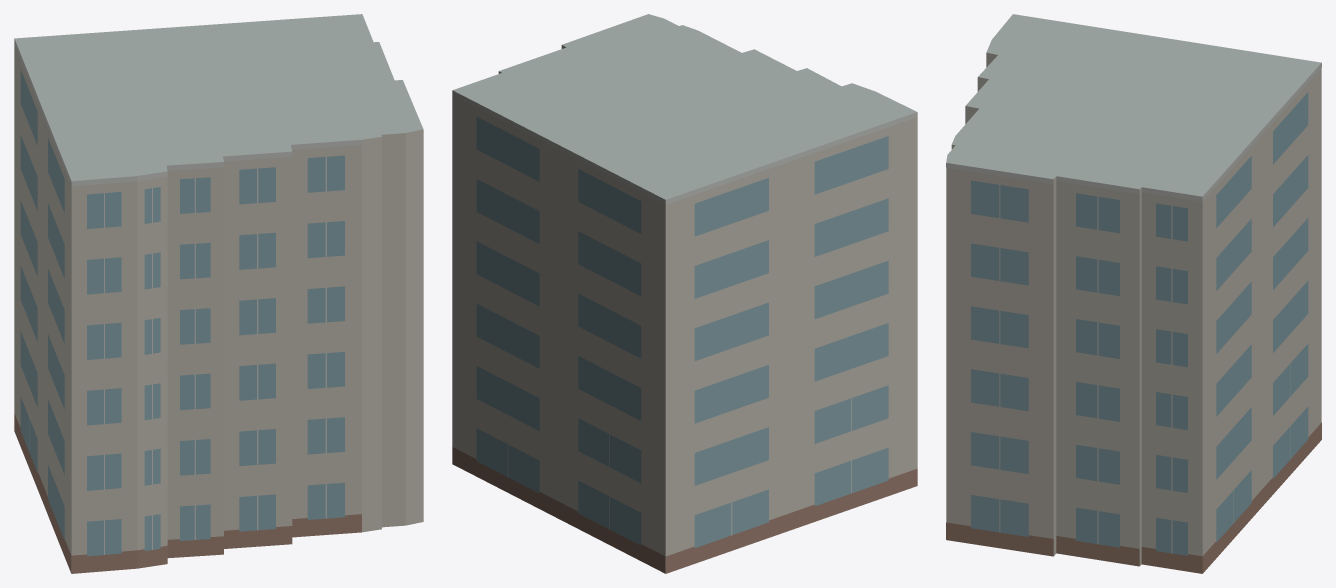
The model's file is survey-upis-32478143.glb.
The picture shows the model from 3 angles, left to right: view 1: azimuth 30°, elevation 25°; view 2: azimuth 150°, elevation 25°; view 3: azimuth 270°, elevation 25°; orthographic projection. The views are drawn at different scales.
Visible parts, largest first — view 1: survey-upis-32478143.tmp; view 2: survey-upis-32478143.tmp; view 3: survey-upis-32478143.tmp.
Part boxes in pixels (box(x1,y1,x2,y2)): survey-upis-32478143.tmp: box(14, 14, 423, 573); survey-upis-32478143.tmp: box(452, 14, 917, 573); survey-upis-32478143.tmp: box(946, 14, 1321, 573).
Bounding box in the file's own units: 19.02 × 18.3 × 16.52.
